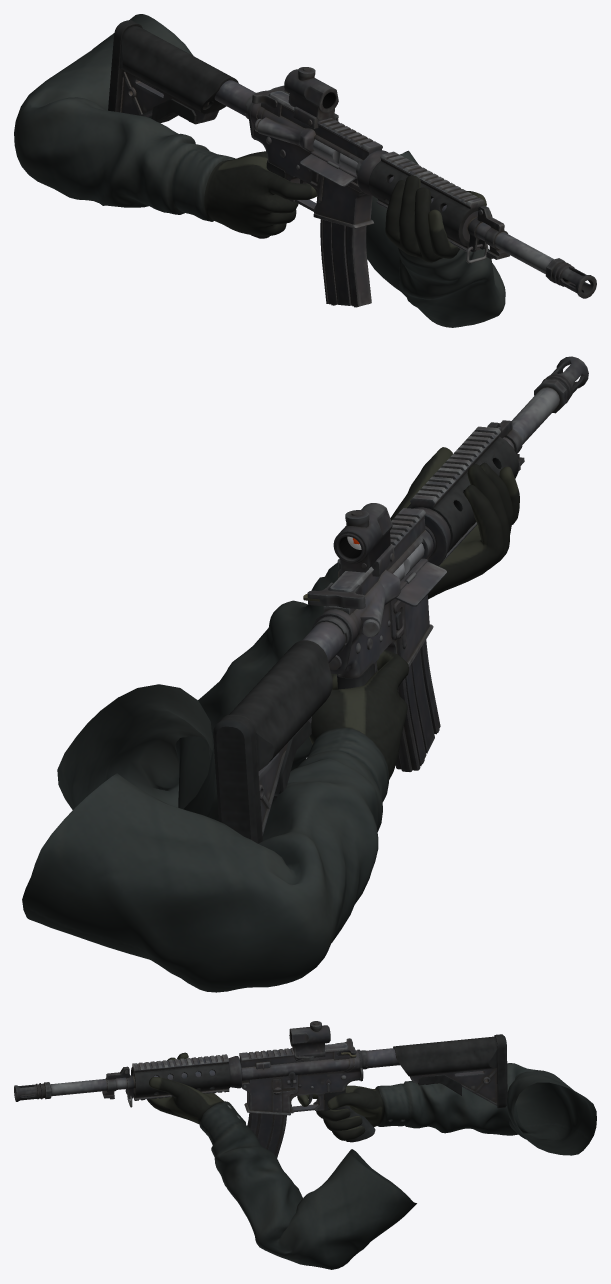
Rendered from carbine_000109.obj.
The picture shows the model from 3 angles, top to bottom: view 1: azimuth 30°, elevation 25°; view 2: azimuth 150°, elevation 25°; view 3: azimuth 270°, elevation 25°; orthographic projection. The views are drawn at different scales.
Visible parts, largest first — view 1: armmesh_arms_0, base_carbine_0, clip_carbine_0, scope_carbine_0, lid_carbine_0, bolt_carbine_0; view 2: armmesh_arms_0, base_carbine_0, clip_carbine_0, scope_carbine_0, lid_carbine_0, handle_carbine_0; view 3: armmesh_arms_0, base_carbine_0, scope_carbine_0, clip_carbine_0.
Part boxes in pixels (<box>): armmesh_arms_0: <box>14,14,505,327</box>; base_carbine_0: <box>108,20,596,298</box>; clip_carbine_0: <box>320,219,371,307</box>; scope_carbine_0: <box>284,67,338,128</box>; lid_carbine_0: <box>300,154,355,186</box>; bolt_carbine_0: <box>313,139,357,173</box>; armmesh_arms_0: <box>22,447,519,992</box>; base_carbine_0: <box>213,356,588,843</box>; clip_carbine_0: <box>395,640,440,771</box>; scope_carbine_0: <box>333,503,394,577</box>; lid_carbine_0: <box>395,561,446,606</box>; handle_carbine_0: <box>307,582,365,609</box>; armmesh_arms_0: <box>146,1052,596,1269</box>; base_carbine_0: <box>14,1034,507,1142</box>; scope_carbine_0: <box>289,1021,330,1061</box>; clip_carbine_0: <box>247,1113,286,1157</box>.
Bounding box in the file's own units: 50.26 × 43.91 × 118.
3 materials, 3 textured.
